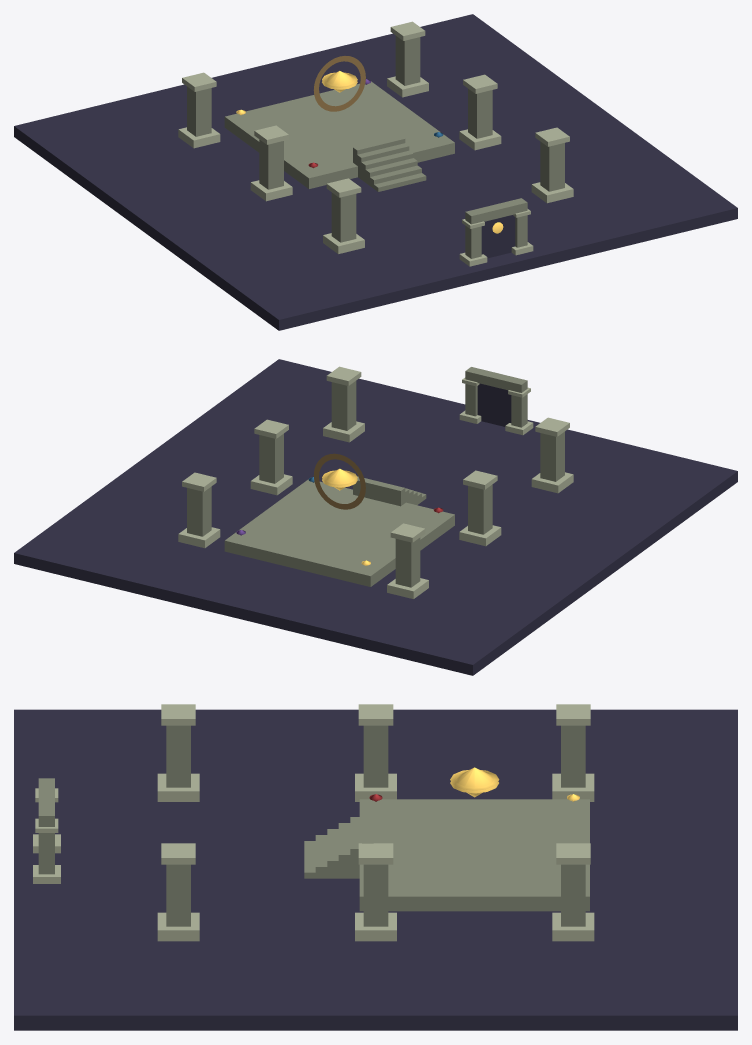
Rendered from sun_chamber.glb.
3 renders of one model, top to bottom at view 1: azimuth 30°, elevation 25°; view 2: azimuth 150°, elevation 25°; view 3: azimuth 270°, elevation 25°, orthographic. The views are drawn at different scales.
Visible parts, largest first — view 1: ground, dais, column (×6), base (×6), step (×3), door, lintel, core_ring; view 2: ground, dais, column (×7), base (×6), door, step, lintel, core_ring; view 3: ground, dais, column (×7), base (×6), cap (×6), step (×4), lintel, crystal_upper.
Part boxes in pixels (x1,y1,x2,y2): ground: (14,14,737,330); dais: (224,81,454,188); column (×6): (187,36,564,242); base (×6): (178,76,573,253); step (×3): (353,135,413,182); door: (481,215,515,258); lintel: (465,198,527,224); core_ring: (313,56,365,111); ground: (14,359,737,675); dais: (224,479,454,586); column (×7): (187,381,564,587); base (×6): (178,421,573,598); door: (477,383,511,426); step: (353,476,405,506); lintel: (465,367,527,392); core_ring: (313,453,365,509); ground: (14,709,737,1030); dais: (359,799,589,911); column (×7): (38,725,585,926); base (×6): (157,773,594,941); cap (×6): (161,704,590,864); step (×4): (315,817,361,878); lintel: (38,778,54,826); crystal_upper: (450,767,498,793).
Bounding box in the file's own units: 22 × 4.35 × 22.
